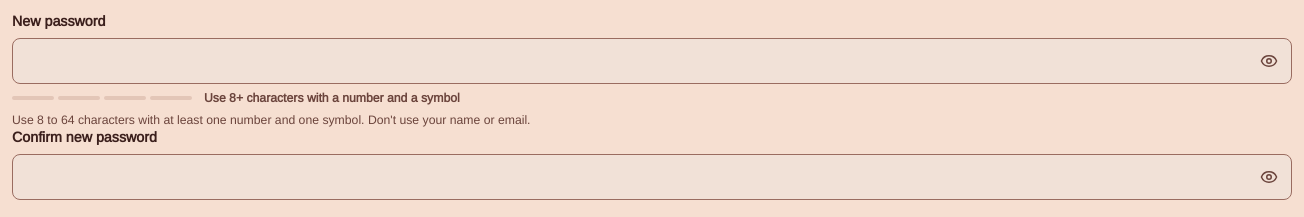
NewPasswordFields › shows the strength meter and the rule hint under New password (OQ-2 default A)
This screenshot has width=1304, height=217.
Check: the text "Use 8+ characters with a number and a symbol" is shown, box x1=204 y1=90 x2=460 y2=106
Check: the text "Use 8 to 64 characters with at least one number and one symbol. Don't use your name or email." is shown, box x1=12 y1=113 x2=530 y2=127
Type "Mabuhay#Tahi2026" into the password field labelled "New password" at (652, 61), box x1=13 y1=39 x2=1291 y2=83
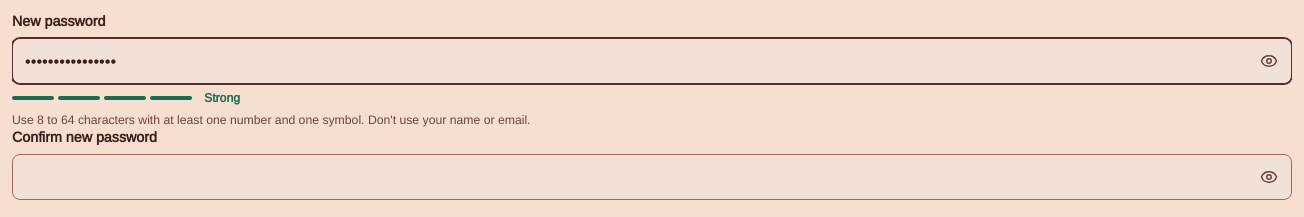
Check: the text "Use 8 to 64 characters with at least one number and one symbol. Don't use your name or email." is shown, box x1=12 y1=113 x2=530 y2=127
Check: the text "Use 8+ characters with a number and a symbol" is gone
Check: the text "Strong" is shown, box x1=204 y1=90 x2=240 y2=106
